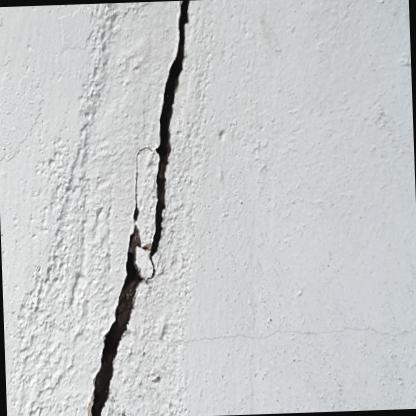crack: (91, 0, 190, 416)
